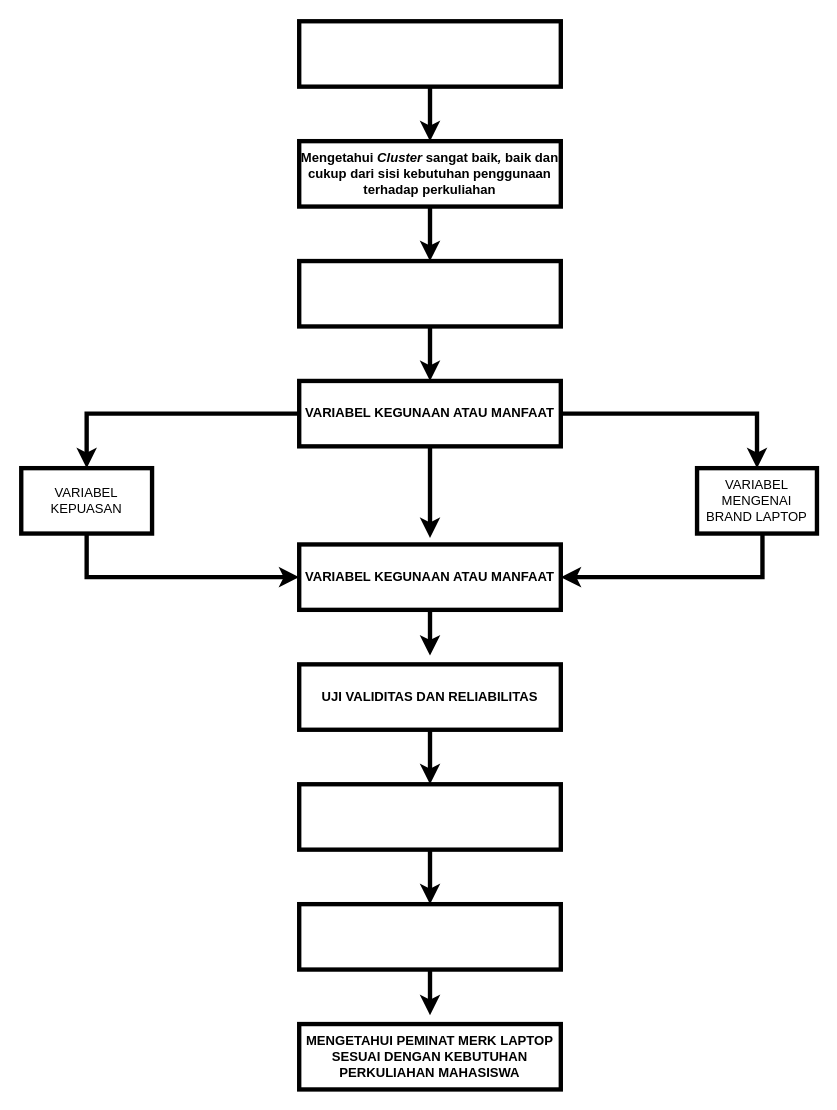
Image size: 837x1110. Some labels were removed from this diagram. Here are the shapes that lost their labels. From the top down, the centre of each, then its label:
At (429,53): "Sebagian Besar Mahasiswa ITEBA Memiliki Laptop".
At (429,293): "Melakukan Kueisioner".
At (429,816): "PENGOLAHAN DATA".
At (429,936): "PENGUJIAN DATA".
